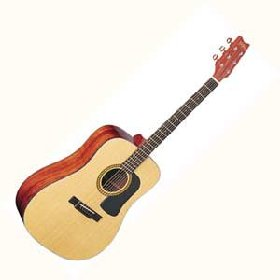guitar: (15, 35, 251, 261)
